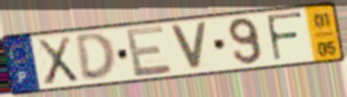9: (227, 15, 265, 68)
D: (73, 31, 119, 83)
E: (123, 23, 175, 80)
F: (264, 11, 306, 64)
V: (167, 21, 210, 72)
X: (34, 34, 81, 88)
